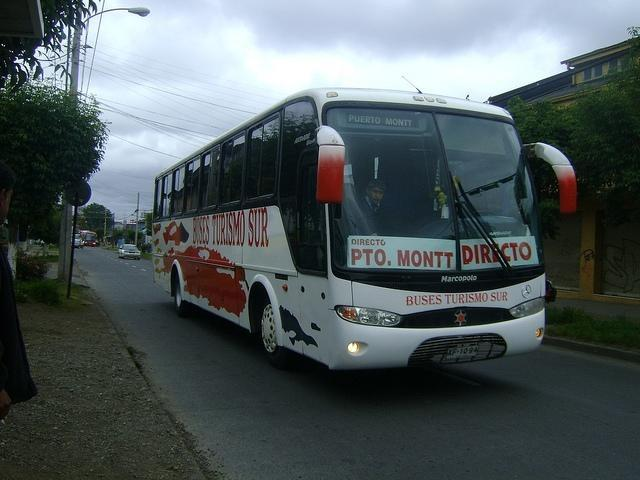bus: (151, 88, 577, 373), (79, 229, 97, 246)
car: (118, 244, 140, 260), (546, 280, 557, 304), (83, 240, 96, 247)
